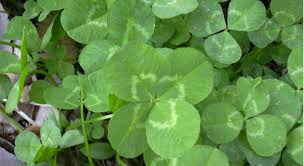4-clover: (107, 43, 208, 158)
